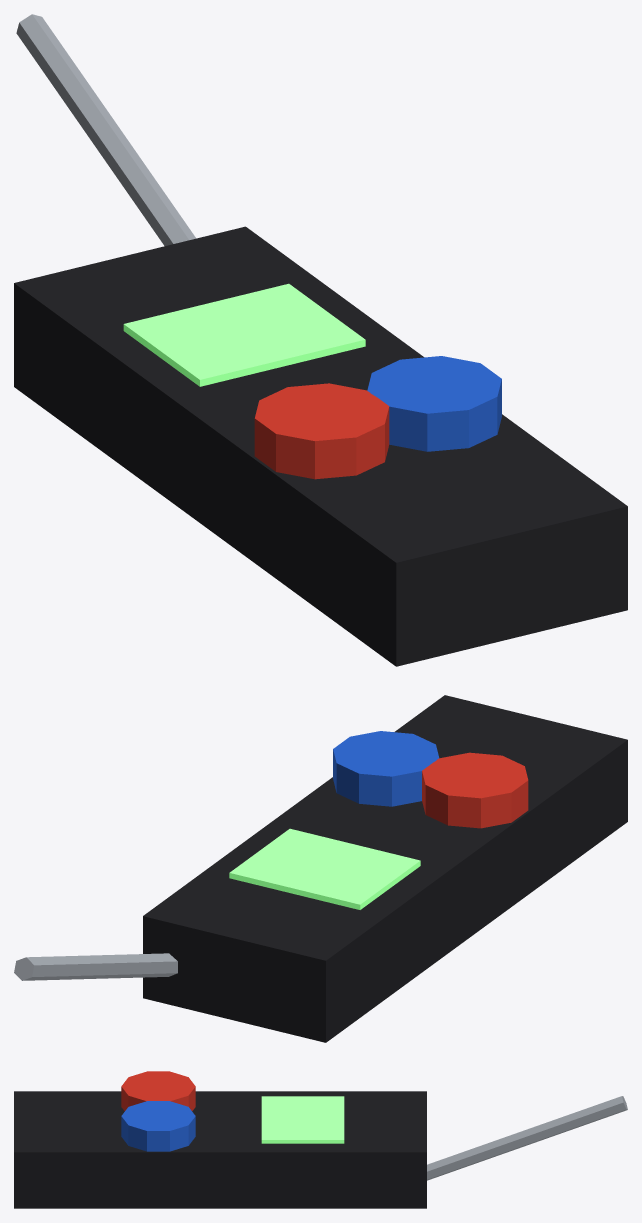
Rendered from rink_score_remote.glb.
The picture shows the model from 3 angles, top to bottom: view 1: azimuth 30°, elevation 25°; view 2: azimuth 150°, elevation 25°; view 3: azimuth 270°, elevation 25°; orthographic projection. The views are drawn at different scales.
Visible parts, largest first — view 1: body_remote_black, screen_remote_screen, home_remote_red, away_remote_blue, antenna_remote_steel; view 2: body_remote_black, screen_remote_screen, home_remote_red, away_remote_blue, antenna_remote_steel; view 3: body_remote_black, screen_remote_screen, antenna_remote_steel, away_remote_blue, home_remote_red.
Part boxes in pixels (<box>): body_remote_black: <box>14,226,627,666</box>; screen_remote_screen: <box>123,283,365,386</box>; home_remote_red: <box>254,383,389,479</box>; away_remote_blue: <box>367,356,501,451</box>; antenna_remote_steel: <box>16,14,196,245</box>; body_remote_black: <box>143,695,627,1042</box>; screen_remote_screen: <box>229,828,420,909</box>; home_remote_red: <box>422,752,528,828</box>; away_remote_blue: <box>333,731,439,806</box>; antenna_remote_steel: <box>14,953,177,980</box>; body_remote_black: <box>14,1091,426,1208</box>; screen_remote_screen: <box>261,1096,344,1143</box>; antenna_remote_steel: <box>427,1096,627,1180</box>; away_remote_blue: <box>121,1101,195,1151</box>; home_remote_red: <box>121,1071,195,1111</box>.
Size of the model in its own units: 0.07 by 0.0555 by 0.2974.
